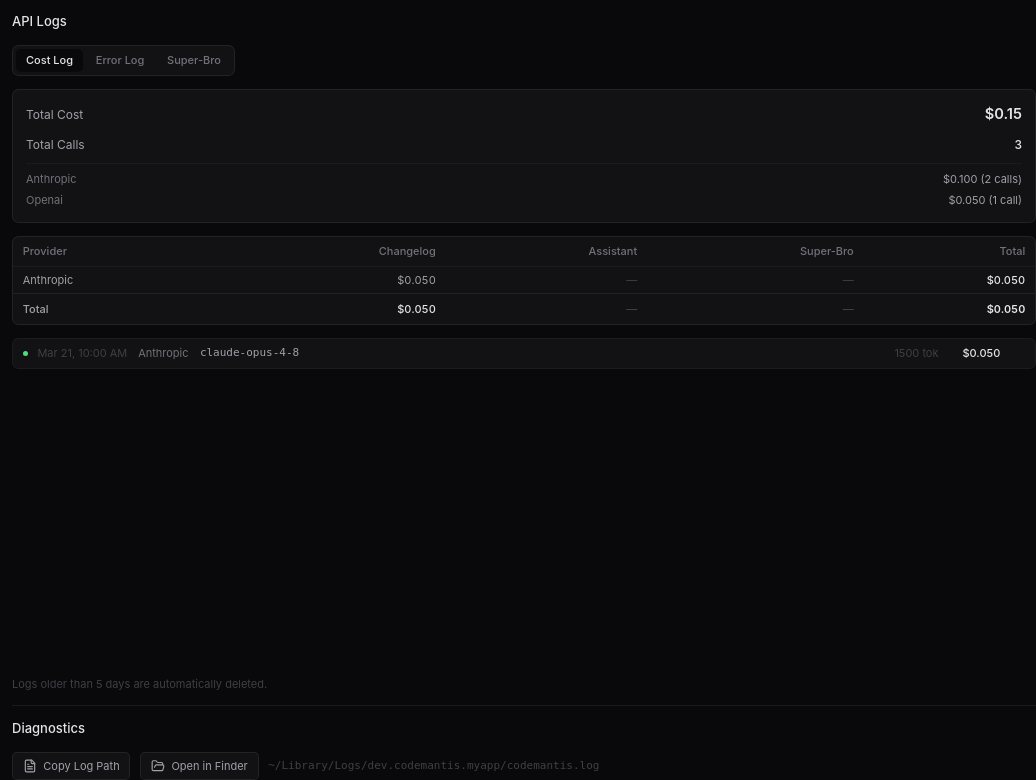
Test: ApiLogsTab › shows empty error state when no errors exist
Click the button "Error Log": x=120, y=60 [86,49,154,72]
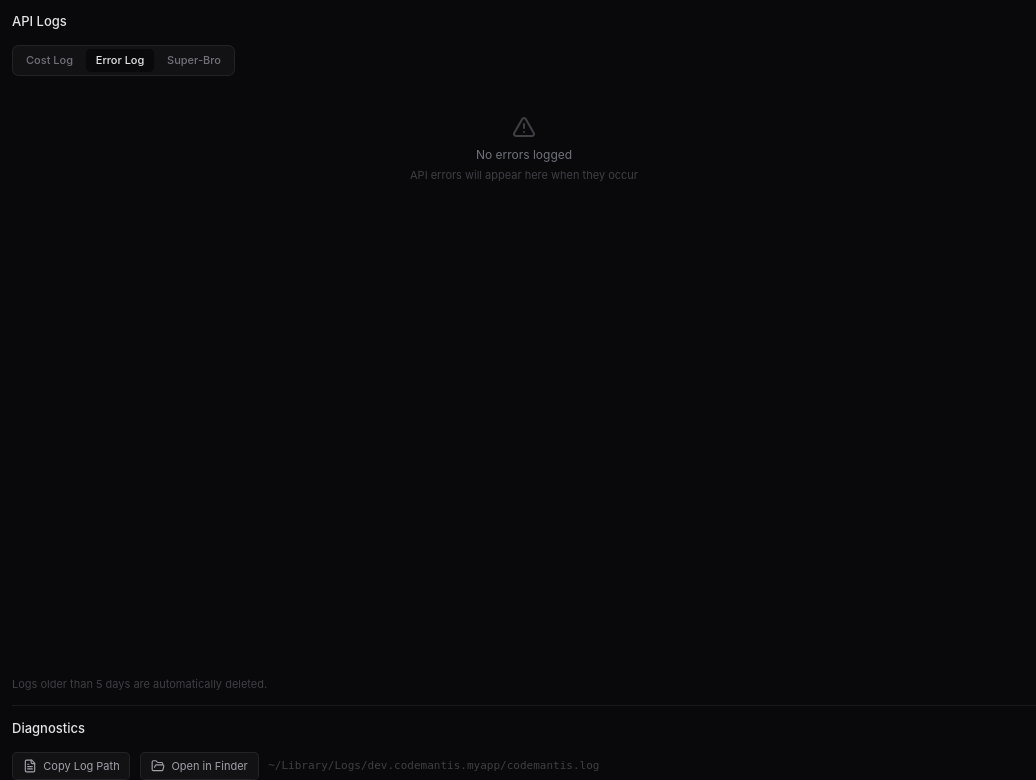
Expected: the text "No errors logged" is shown, [476,146,572,162]
